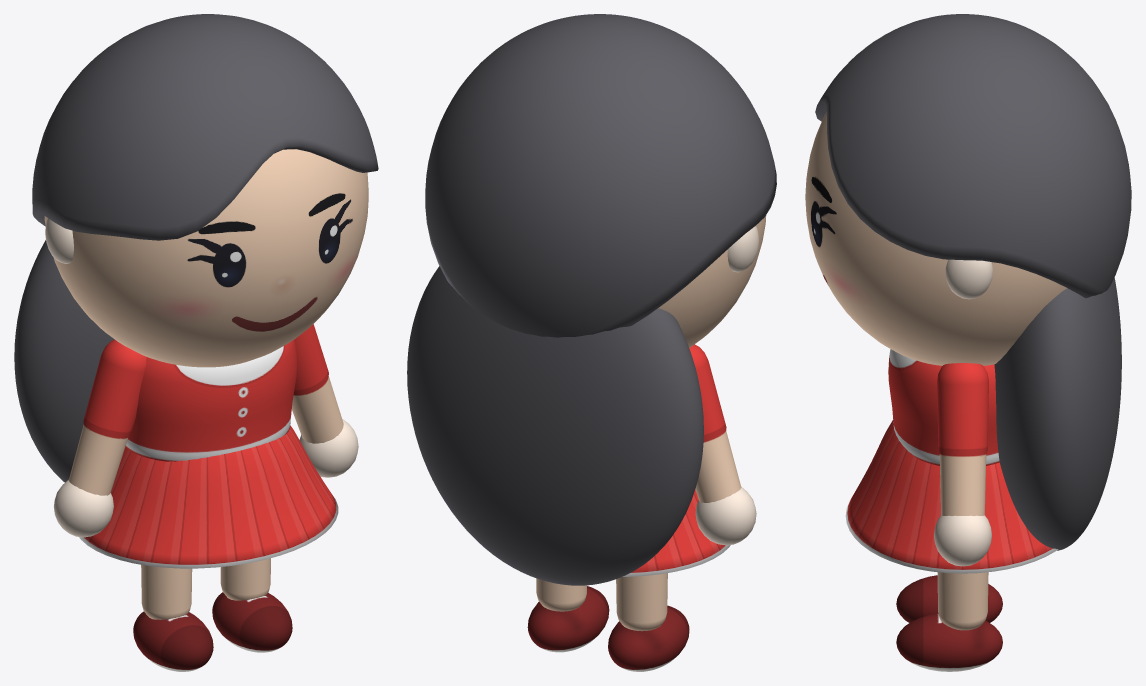
File: female_01_longhair_casual.glb
The picture shows the model from 3 angles, left to right: view 1: azimuth 30°, elevation 25°; view 2: azimuth 150°, elevation 25°; view 3: azimuth 270°, elevation 25°; orthographic projection.
Parts seen in each view (by area): view 1: female_01_longhair_Head_Base_hair, female_01_longhair_Head_Base_face, female_01_longhair_Body_Base_skirt, female_01_longhair_Body_Casual_shirt, female_01_longhair_ArmR_Casual_sleeve, female_01_longhair_ArmL_Casual_sleeve, female_01_longhair_LegL_Base_shoe, female_01_longhair_LegR_Base_shoe, female_01_longhair_LegR_Base_leg, female_01_longhair_ArmR_Base_skin, female_01_longhair_ArmL_Base_skin, female_01_longhair_LegL_Base_leg (+1 smaller); view 2: female_01_longhair_Head_Base_hair, female_01_longhair_Head_Base_face, female_01_longhair_ArmR_Casual_sleeve, female_01_longhair_LegL_Base_shoe, female_01_longhair_LegR_Base_shoe, female_01_longhair_Body_Base_skirt, female_01_longhair_LegR_Base_leg, female_01_longhair_ArmR_Base_skin, female_01_longhair_LegL_Base_leg, female_01_longhair_Head_Base_skin; view 3: female_01_longhair_Head_Base_hair, female_01_longhair_Head_Base_face, female_01_longhair_Body_Base_skirt, female_01_longhair_ArmL_Casual_sleeve, female_01_longhair_Body_Casual_shirt, female_01_longhair_LegL_Base_shoe, female_01_longhair_LegL_Base_leg, female_01_longhair_ArmL_Base_skin, female_01_longhair_LegR_Base_shoe, female_01_longhair_Head_Base_skin.
Boxes of the visible parts, x1,y1,x2,y2 form: female_01_longhair_Head_Base_hair: (14,14,378,482); female_01_longhair_Head_Base_face: (44,149,368,367); female_01_longhair_Body_Base_skirt: (79,425,338,568); female_01_longhair_Body_Casual_shirt: (125,340,297,461); female_01_longhair_ArmR_Casual_sleeve: (68,339,146,495); female_01_longhair_ArmL_Casual_sleeve: (291,324,343,443); female_01_longhair_LegL_Base_shoe: (212,592,292,652); female_01_longhair_LegR_Base_shoe: (133,611,213,671); female_01_longhair_LegR_Base_leg: (141,564,192,619); female_01_longhair_ArmR_Base_skin: (53,479,113,537); female_01_longhair_ArmL_Base_skin: (299,419,358,477); female_01_longhair_LegL_Base_leg: (220,558,270,600); female_01_longhair_Head_Base_hair: (407,14,776,585); female_01_longhair_Head_Base_face: (658,215,766,347); female_01_longhair_ArmR_Casual_sleeve: (689,344,741,502); female_01_longhair_LegL_Base_shoe: (527,586,609,652); female_01_longhair_LegR_Base_shoe: (608,605,689,671); female_01_longhair_Body_Base_skirt: (622,489,730,576); female_01_longhair_LegR_Base_leg: (616,573,667,631); female_01_longhair_ArmR_Base_skin: (695,487,756,545); female_01_longhair_LegL_Base_leg: (536,578,587,611); female_01_longhair_Head_Base_skin: (727,226,758,272); female_01_longhair_Head_Base_hair: (815,14,1131,550); female_01_longhair_Head_Base_face: (805,112,1067,365); female_01_longhair_Body_Base_skirt: (845,420,1058,573); female_01_longhair_ArmL_Casual_sleeve: (937,363,988,515); female_01_longhair_Body_Casual_shirt: (888,349,999,465); female_01_longhair_LegL_Base_shoe: (896,613,1002,671); female_01_longhair_LegL_Base_leg: (937,572,988,630); female_01_longhair_ArmL_Base_skin: (934,515,991,566); female_01_longhair_LegR_Base_shoe: (896,575,1002,622); female_01_longhair_Head_Base_skin: (945,259,992,299).
Bounding box in the file's own units: 0.584 × 1.13 × 0.5381.
Materials: 8 (6 with a texture image).
